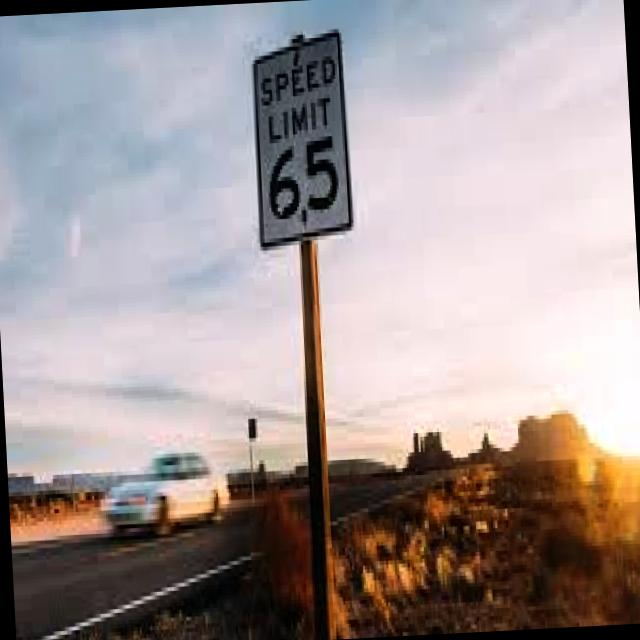Speed Limit Signs: (245, 24, 357, 250)
